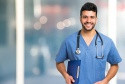male: (75, 4, 100, 34)
